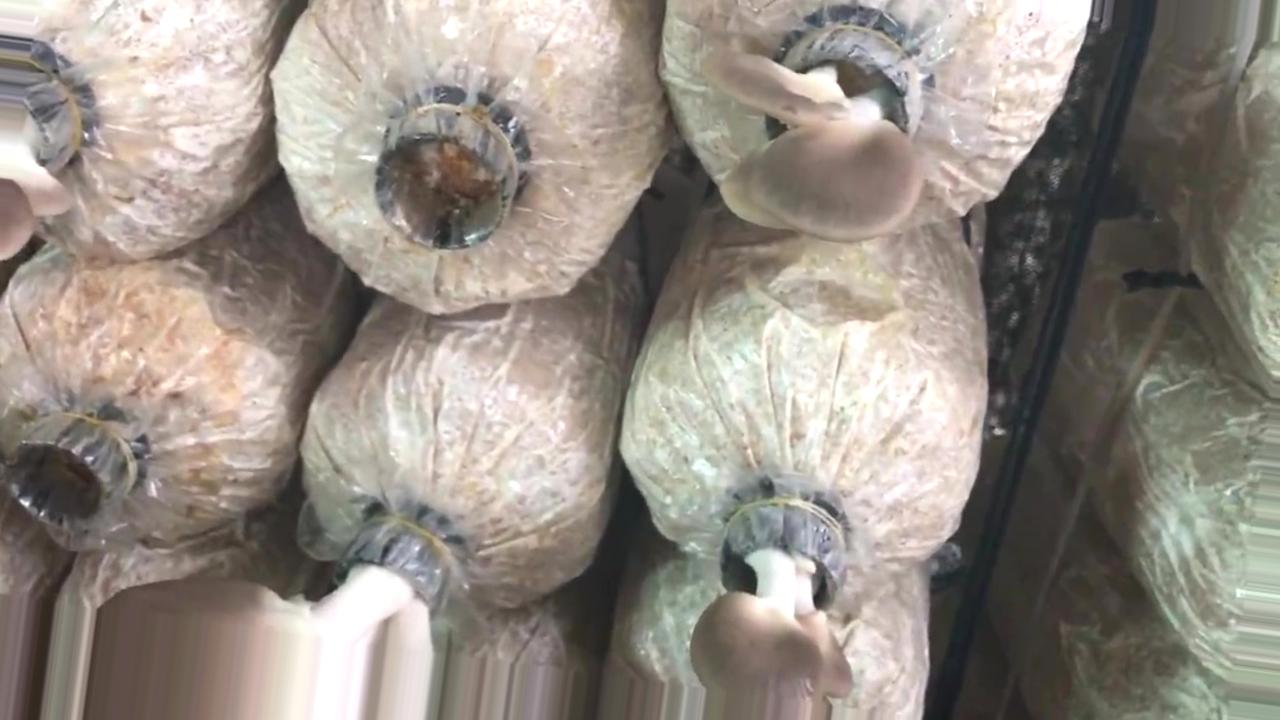nam: (81, 505, 480, 720), (695, 10, 934, 252), (690, 481, 857, 720)
